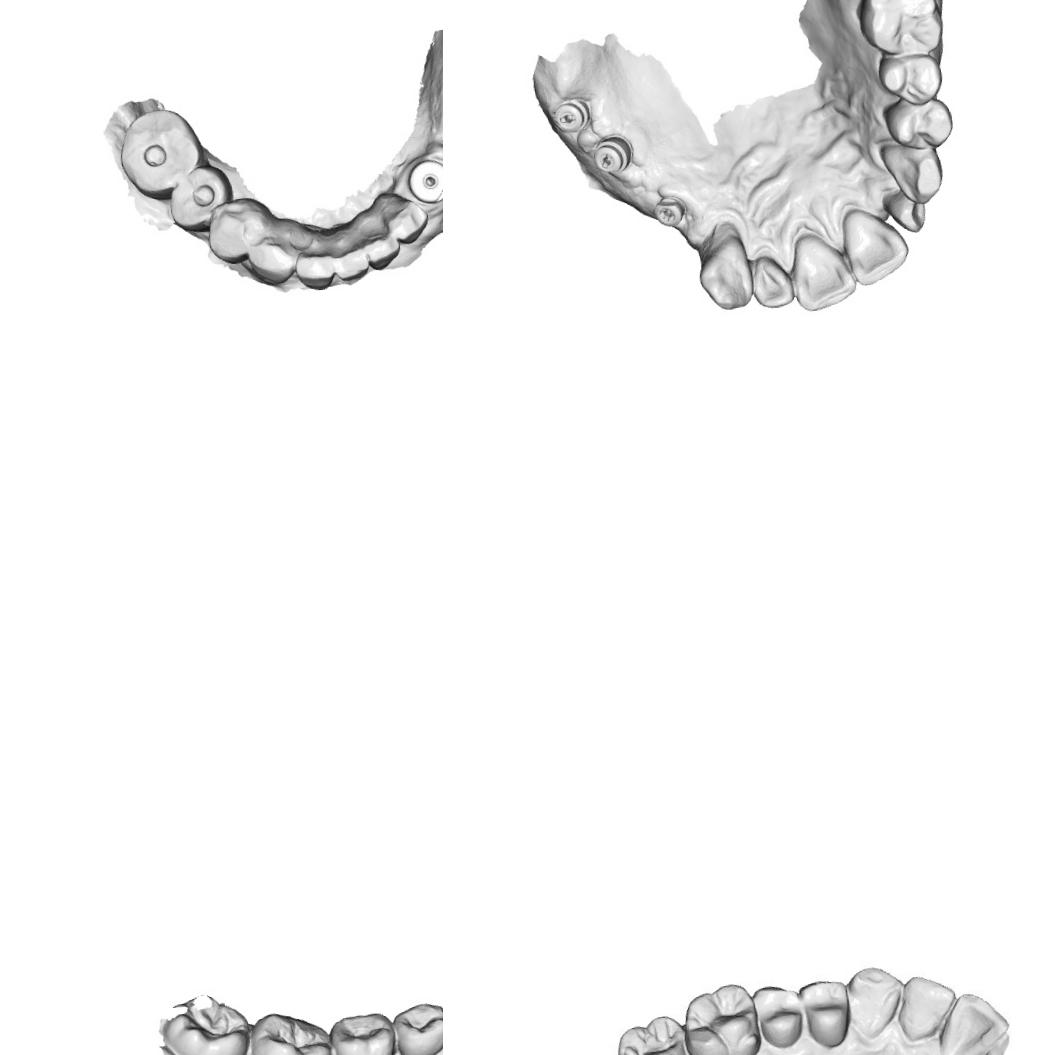canine: (692, 220, 756, 314), (842, 960, 909, 1044), (878, 138, 950, 210), (246, 229, 296, 285)
implant: (407, 157, 443, 206)
implant_minus: (590, 134, 635, 176), (549, 96, 593, 136)
implant_plus: (650, 194, 688, 230)
incisor: (838, 202, 914, 288), (786, 228, 860, 315), (934, 989, 998, 1054), (898, 973, 960, 1034), (747, 252, 796, 311), (382, 195, 429, 245), (882, 187, 928, 236), (293, 242, 337, 293), (330, 237, 372, 282), (362, 226, 401, 270)
molar: (113, 104, 208, 202), (160, 992, 252, 1055), (854, 0, 945, 59), (162, 161, 236, 233), (687, 985, 761, 1055), (242, 1005, 337, 1055), (328, 1008, 400, 1055), (616, 1018, 689, 1055)
premolar: (201, 195, 268, 265), (881, 92, 956, 154), (800, 974, 856, 1054), (876, 50, 946, 110), (752, 982, 804, 1053), (389, 998, 443, 1055)
